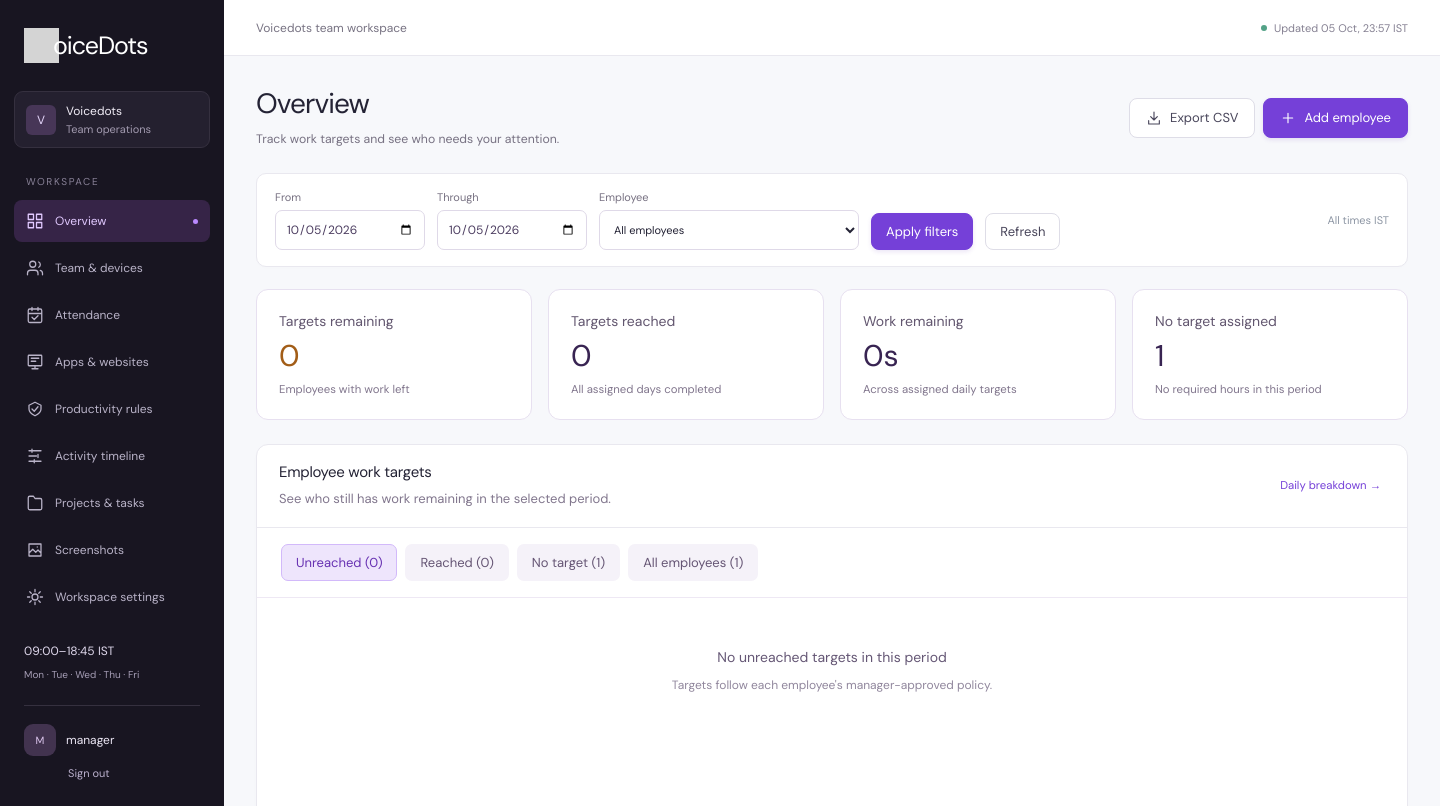
React dashboard › shows context and classification controls on Apps and websites
Check: the heading "Employee work targets" is shown, box [279,462,432,482]
Click the button "Apps & websites". click: (112, 362)
box: [14,341,210,383]
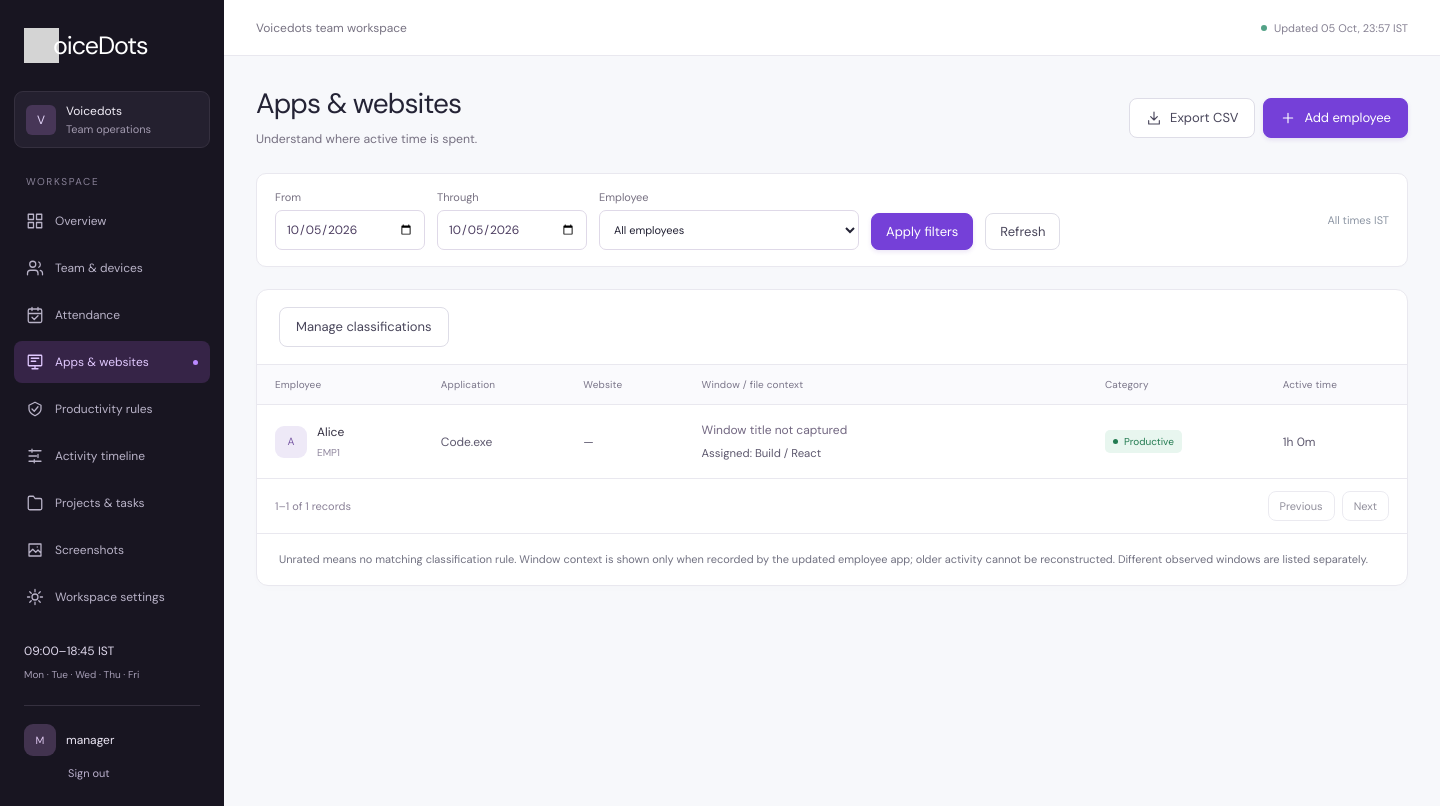
Check: the column heading "Window / file context" is shown, box [684,365,1087,405]
Check: the button "Manage classifications" is shown, box [279,307,448,347]
Check: the text "Window title not captured" is shown, box [702,422,847,438]
